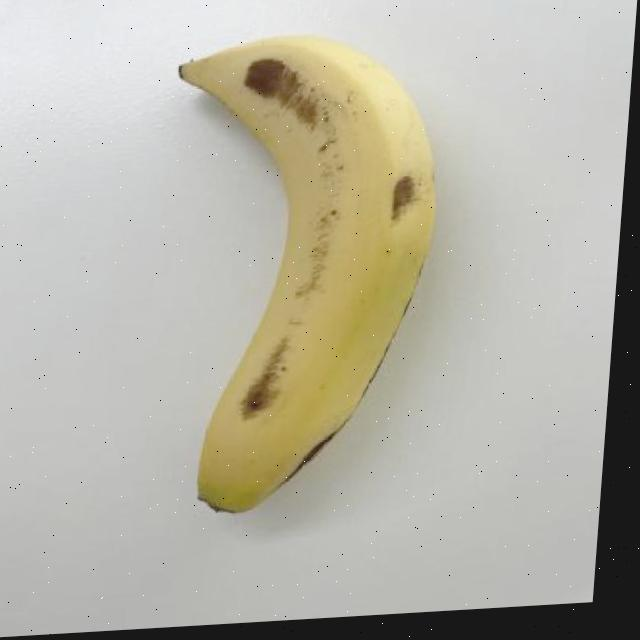banana: (143, 25, 448, 520)
